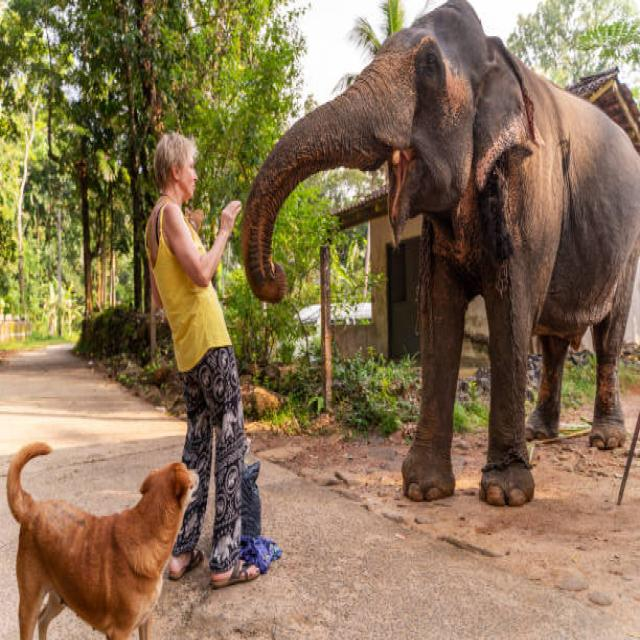Elephant: (245, 2, 640, 528)
